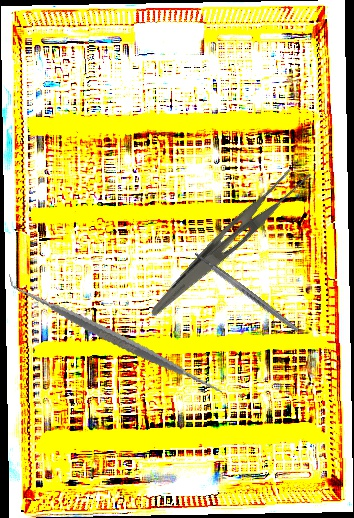Dressing Forceps: (147, 153, 316, 334)
Scalpel Handle: (193, 250, 300, 334)
Spatula Surgical: (8, 233, 225, 444)
